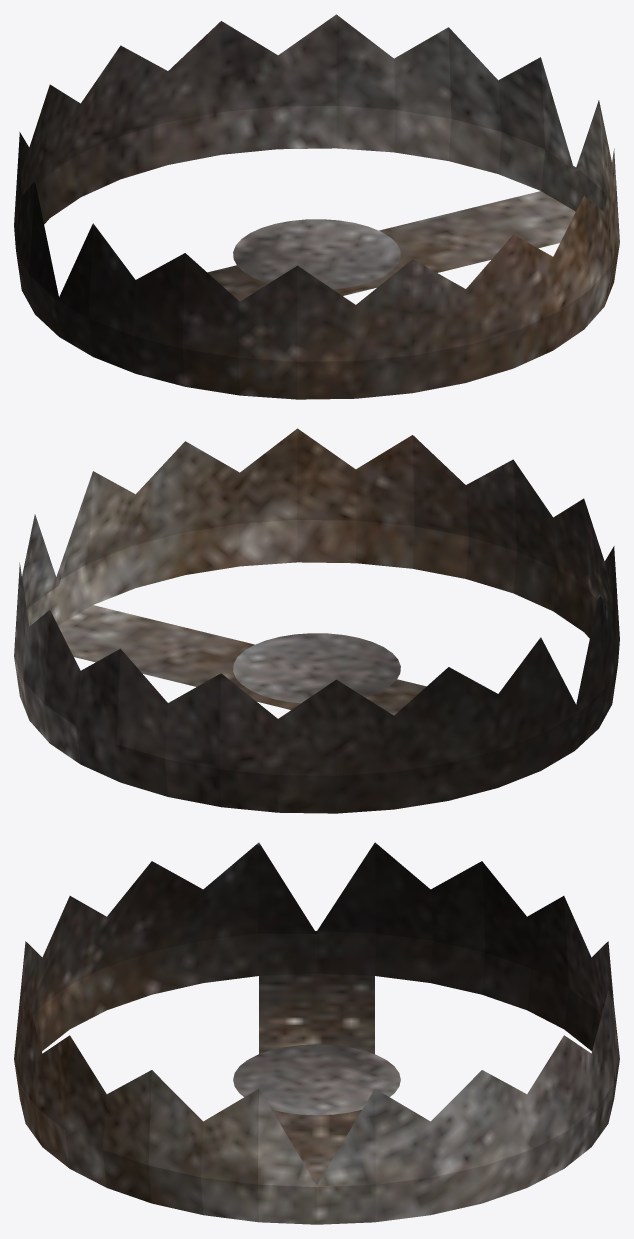
The model's file is trap.fbx.
3 renders of one model, top to bottom at view 1: azimuth 30°, elevation 25°; view 2: azimuth 150°, elevation 25°; view 3: azimuth 270°, elevation 25°, orthographic.
Parts seen in each view (by area): view 1: Sphere; view 2: Sphere; view 3: Sphere.
Part boxes in pixels (bbox=[...]): Sphere: bbox=[14, 14, 619, 399]; Sphere: bbox=[14, 428, 619, 813]; Sphere: bbox=[14, 842, 619, 1224].
Size of the model in its own units: 200 by 48.71 by 200.
Materials: 1 (1 with a texture image).
